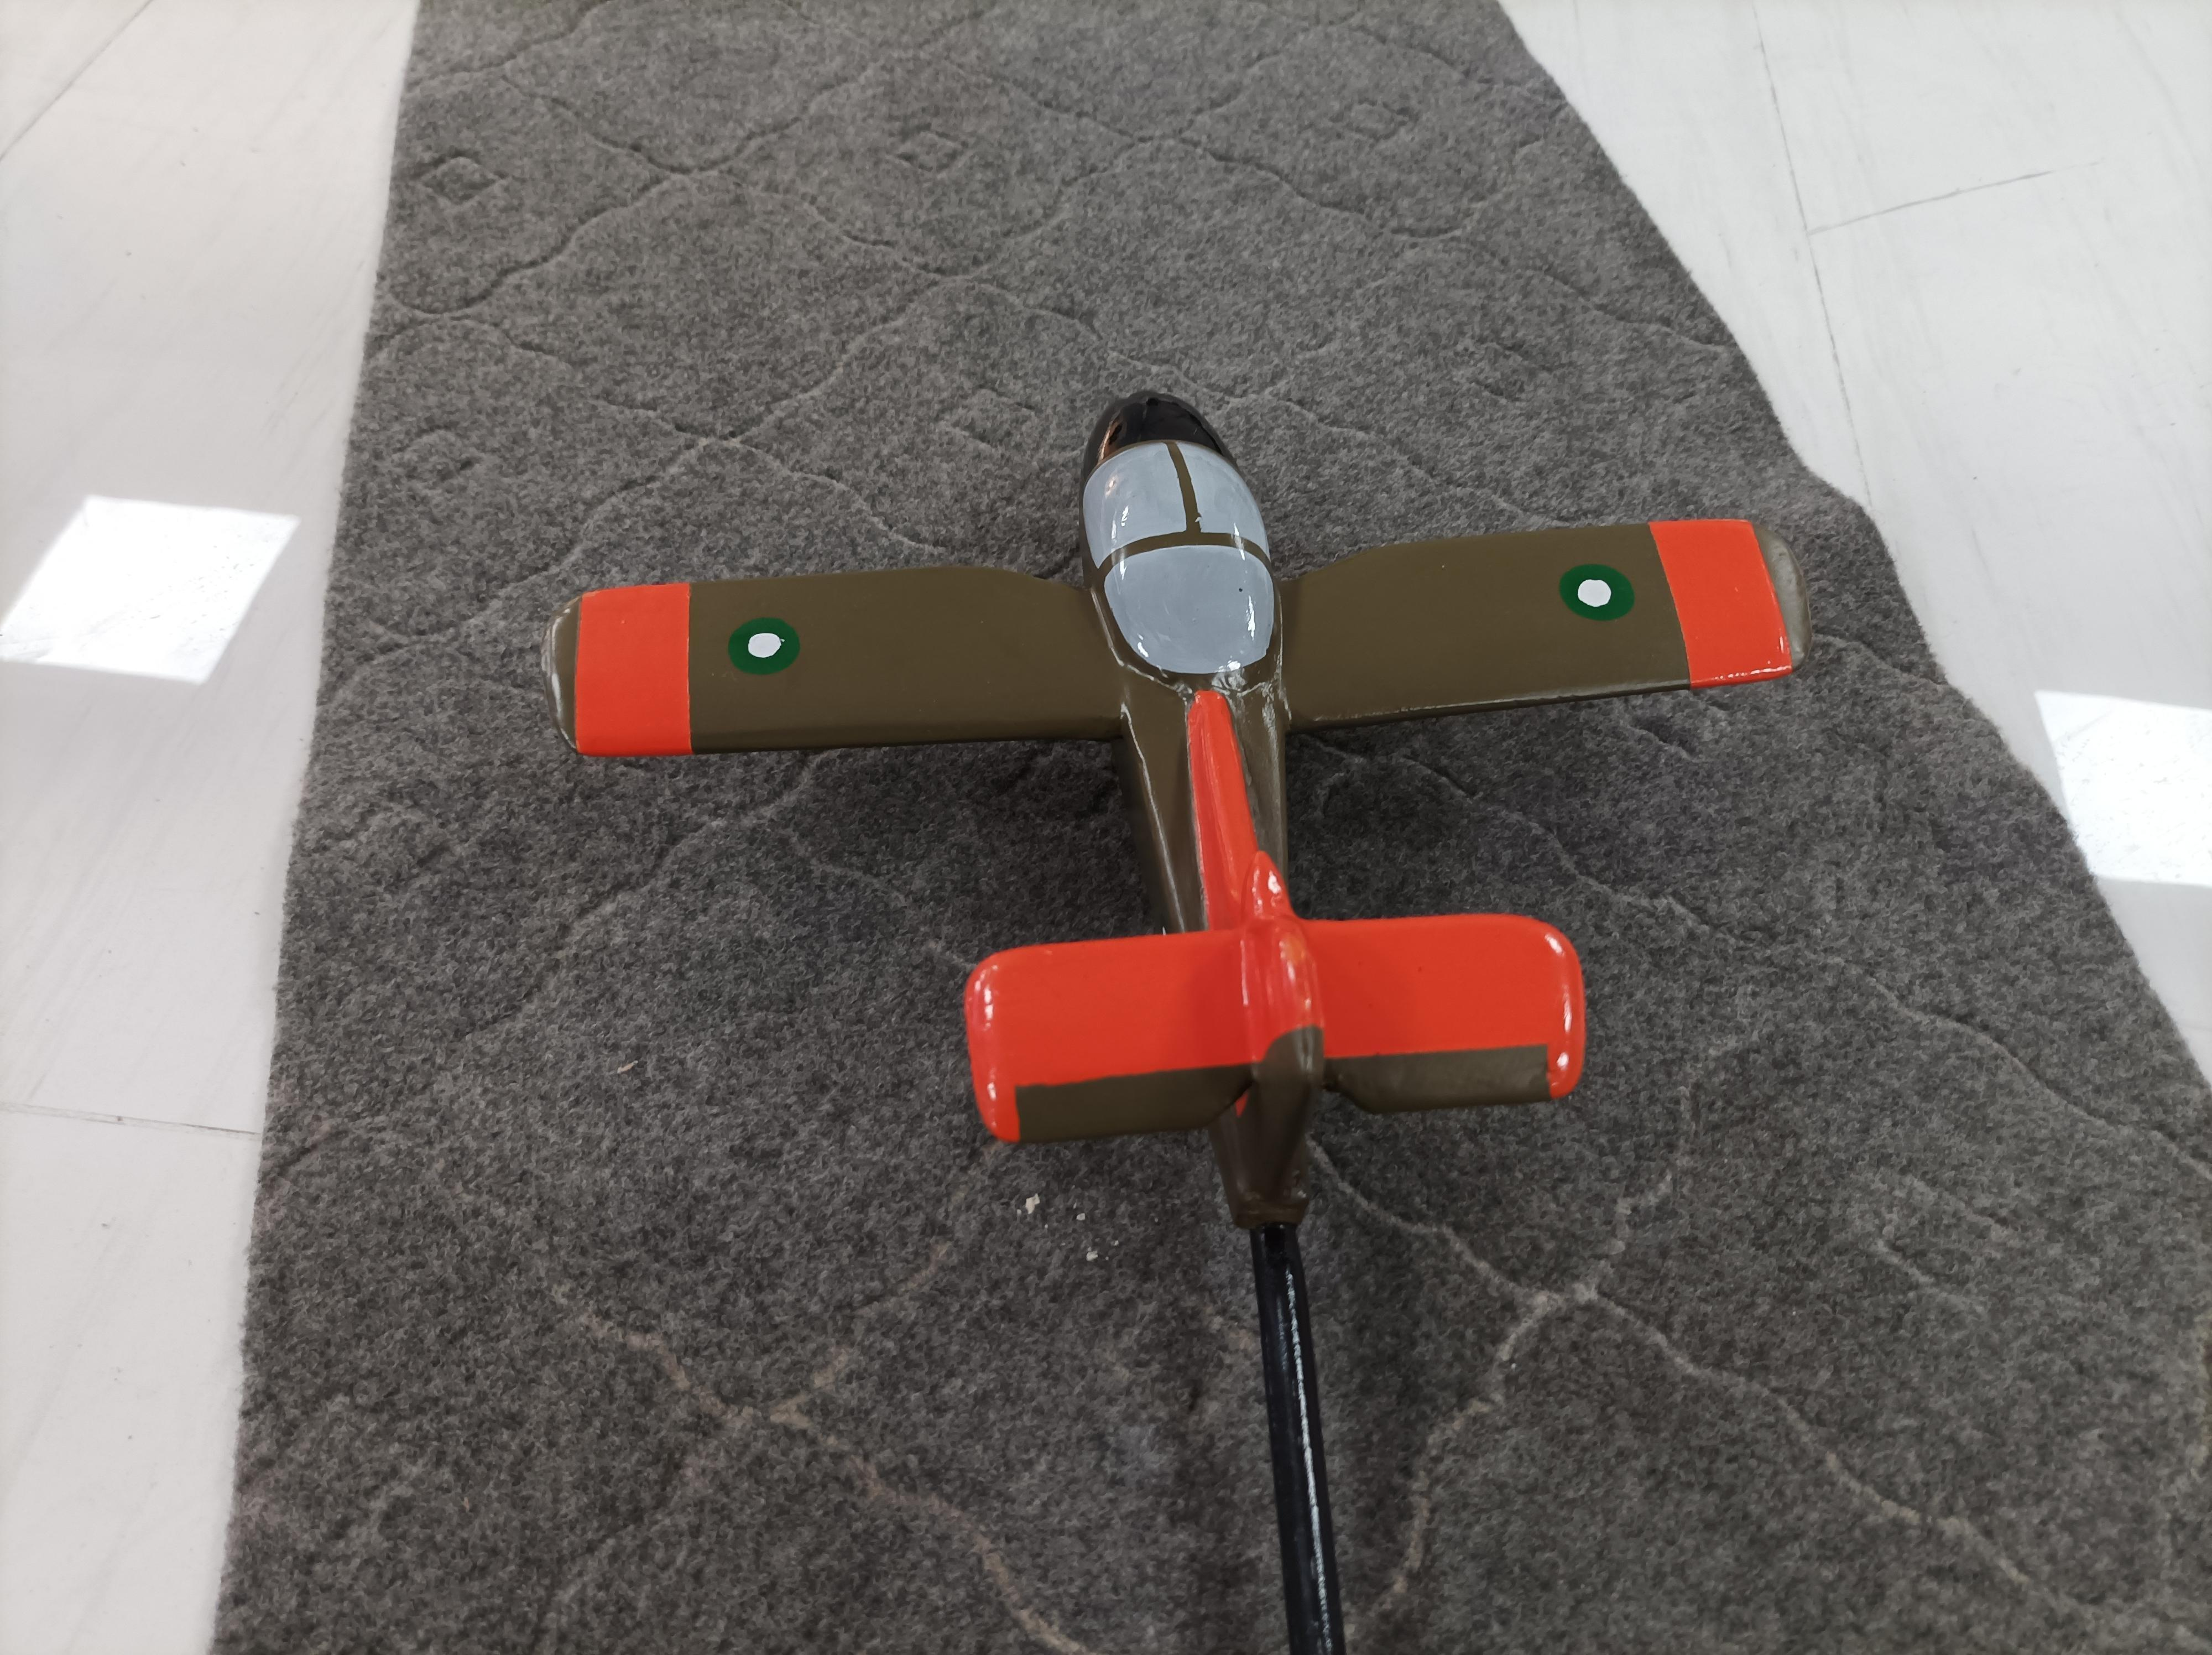Airplane: (528, 365, 1847, 1166)
